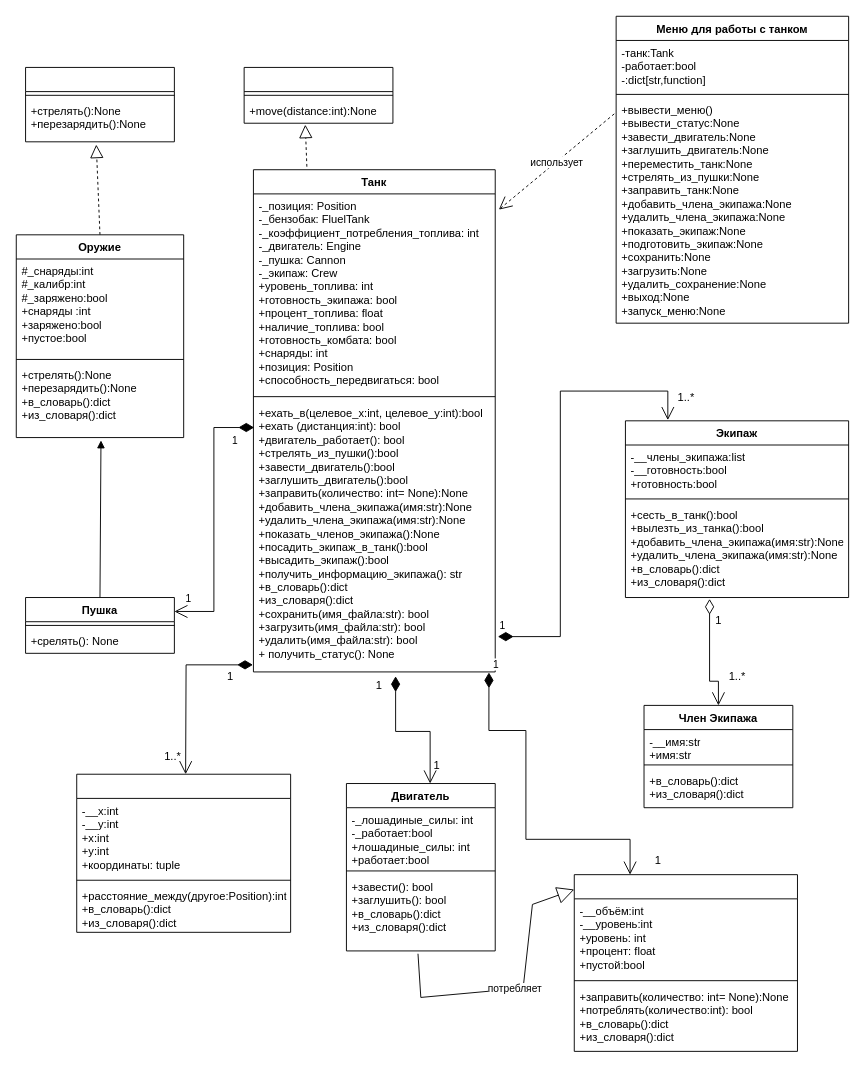
This 865x1070 diagram has some shape labels left out. Each missing label, with the box of its shape:
IПередвигающееся: (243, 66, 393, 123)
IСтреляющее: (25, 66, 174, 142)
Бензобак: (573, 874, 797, 1051)
Позиция: (76, 773, 291, 932)
